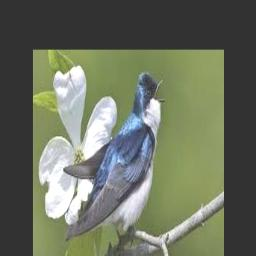Swallow: (63, 71, 166, 246)
